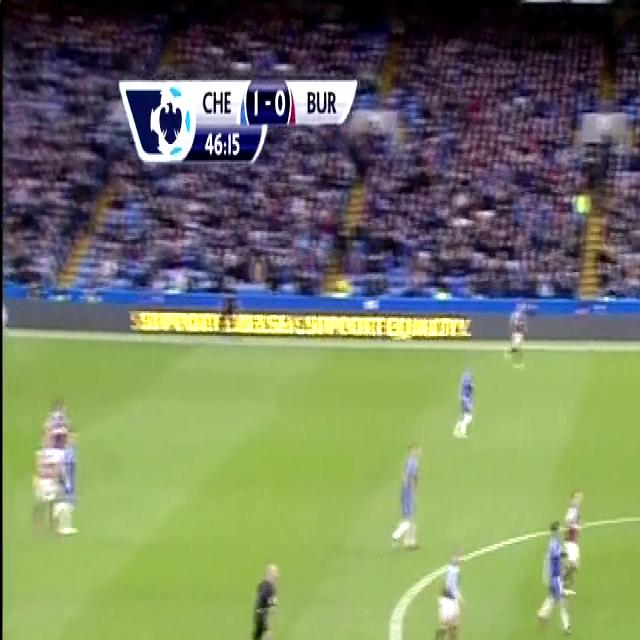referee: (236, 551, 286, 640)
soccer-player: (531, 521, 574, 640), (31, 385, 71, 511), (390, 432, 426, 558), (431, 535, 469, 640), (558, 475, 590, 594), (50, 425, 81, 545), (450, 354, 482, 446), (506, 290, 534, 374)
